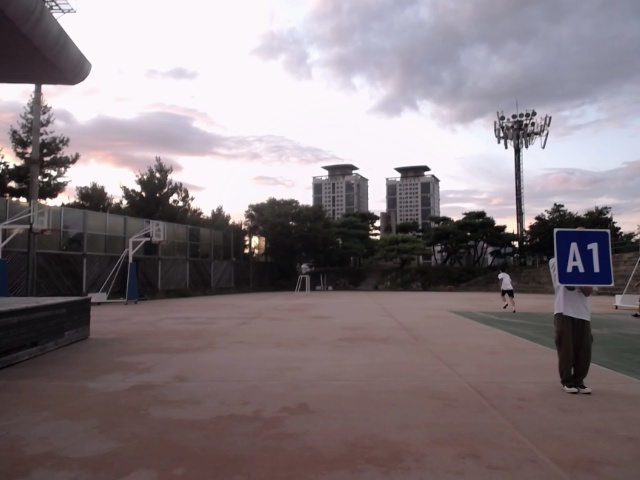delivery_a1: (554, 230, 613, 286)
